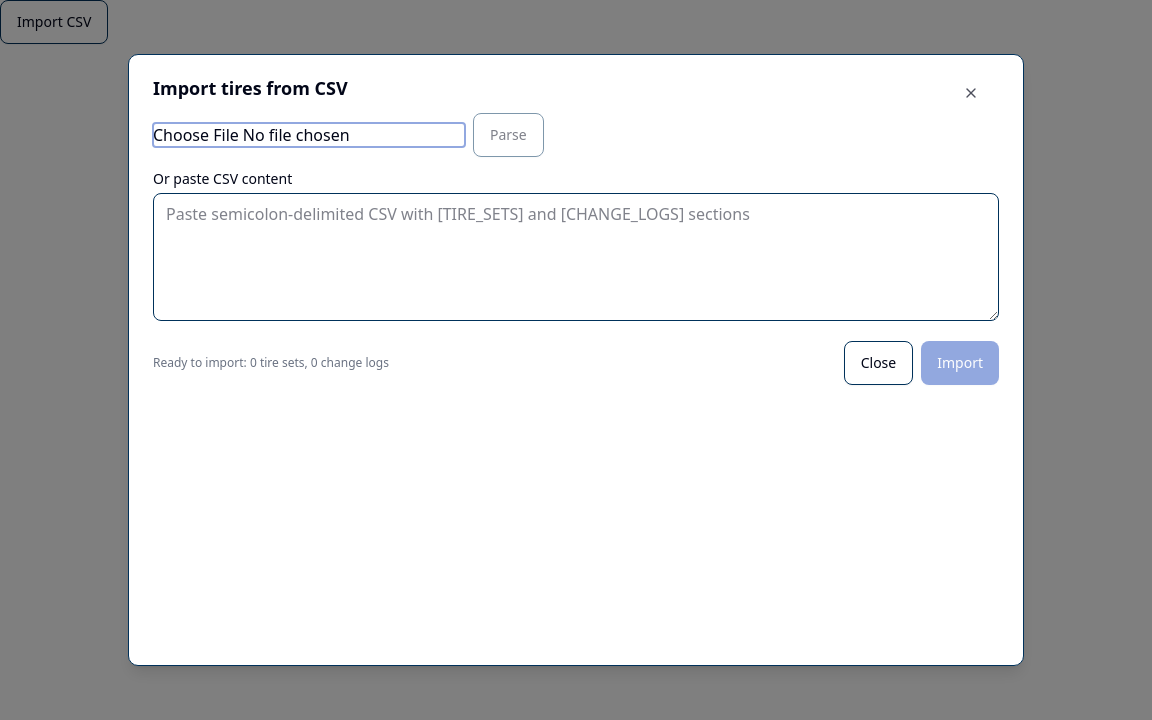
Scenario: ImportTiresDialog › validates and marks invalid rows
Replace the text in the text box with placeholder "semicolon-delimited CSV" with "[TIRE_SETS] Id;Name;Type;Status ts1;;SUMMER;STORED" at (576, 257), box [153, 193, 999, 321]
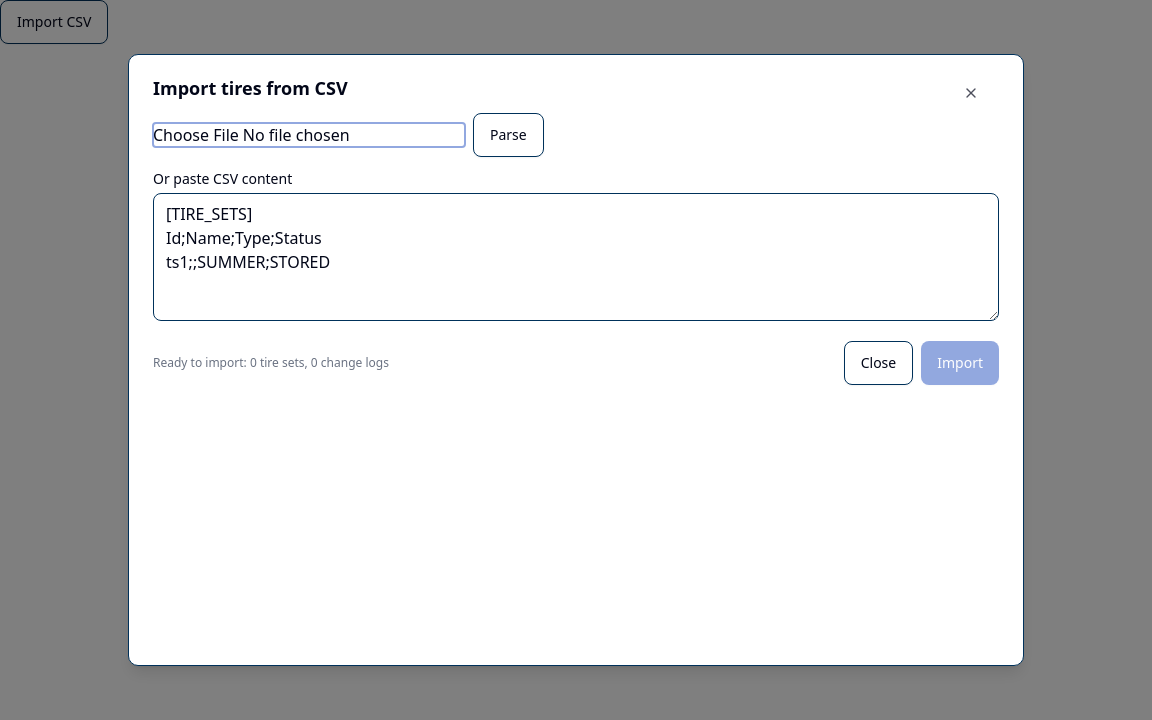
Click the button "Parse" at (508, 135), box [473, 113, 544, 157]
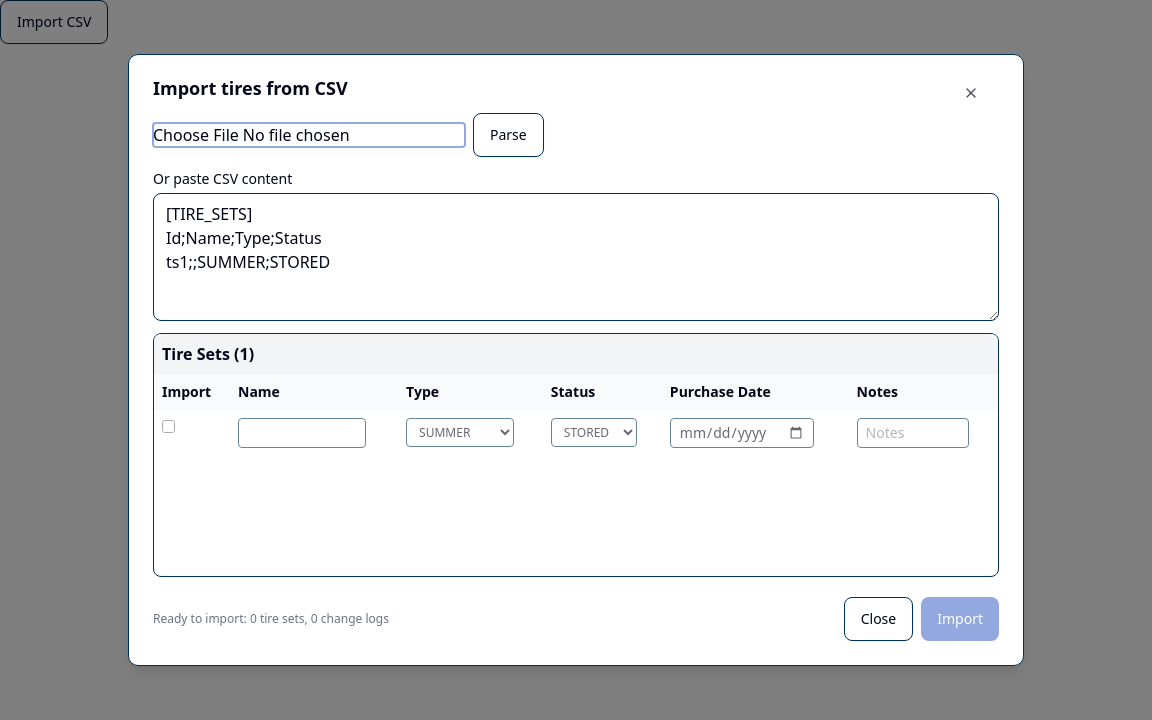
Expected: the heading "Tire Sets (1)" is shown, [154, 334, 998, 374]
Expected: the checkbox is not checked, [162, 420, 175, 433]
